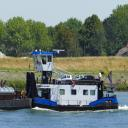tugboat: (27, 47, 121, 114)
